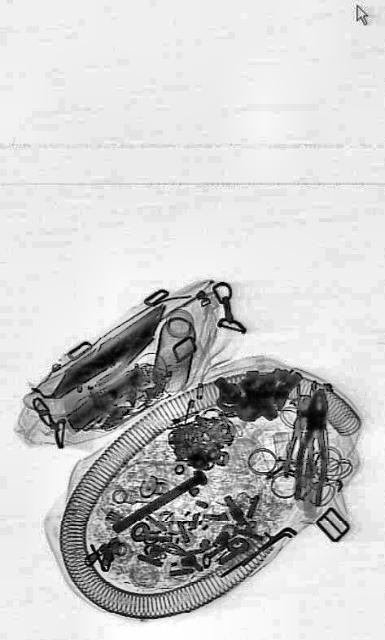Pliers: (291, 384, 337, 508), (283, 391, 321, 481)
